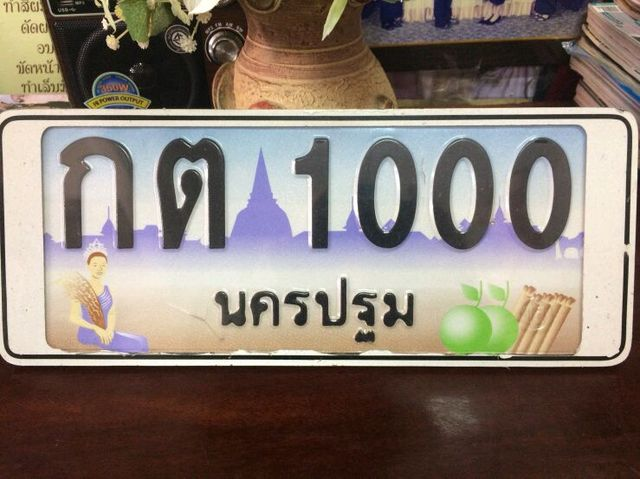Non-Bangkok: (201, 262, 421, 338)
